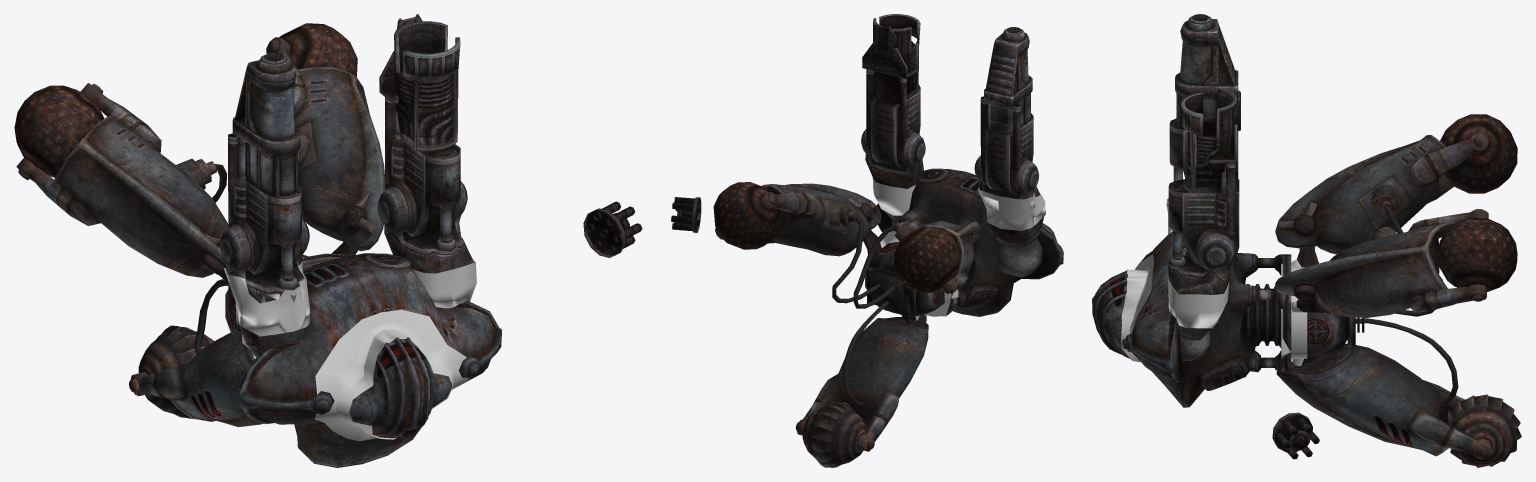
The model's file is asdfasdf.obj.
3 renders of one model, left to right at view 1: azimuth 30°, elevation 25°; view 2: azimuth 150°, elevation 25°; view 3: azimuth 270°, elevation 25°, orthographic. The views are drawn at different scales.
Parts seen in each view (by area): view 1: SBTorso, SBLeftFender, SBRightGatlingLaser, SBRightFender, SBLeftMissileLauncher, limbcaps01, bodycaps01, SBRearFender, SBLeftTire, SBRightUpperArm, SBLeftUpperArm, SBRightTire (+2 smaller); view 2: SBTorso, SBRearFender, SBRightGatlingLaser, SBLeftMissileLauncher, SBRightFender, SBLeftTire, SBRightTire, SBRearTire, limbcaps01, SBLeftUpperArm, SBRightUpperArm, SBLeftFender (+6 smaller); view 3: SBTorso, SBLeftFender, SBRearFender, SBRightFender, SBRightGatlingLaser, SBLeftMissileLauncher, SBRightTire, limbcaps01, SBLeftTire, SBRearTire, SBRightUpperArm, SBRightLaserTurret:0 (+2 smaller).
Part boxes in pixels (x1,y1,x2,y2): SBTorso: [202, 241, 501, 467]; SBLeftFender: [16, 83, 228, 277]; SBRightGatlingLaser: [379, 14, 460, 250]; SBRightFender: [266, 37, 385, 251]; SBLeftMissileLauncher: [228, 52, 301, 289]; limbcaps01: [224, 257, 476, 435]; bodycaps01: [229, 253, 469, 441]; SBRearFender: [129, 332, 263, 427]; SBLeftTire: [14, 85, 104, 177]; SBRightUpperArm: [377, 181, 474, 273]; SBLeftUpperArm: [219, 219, 309, 359]; SBRightTire: [279, 23, 357, 76]; SBTorso: [863, 168, 1063, 324]; SBRearFender: [795, 314, 928, 451]; SBRightGatlingLaser: [862, 14, 920, 167]; SBLeftMissileLauncher: [980, 27, 1033, 194]; SBRightFender: [715, 183, 881, 256]; SBLeftTire: [893, 226, 959, 292]; SBRightTire: [713, 182, 780, 249]; SBRearTire: [802, 402, 866, 467]; limbcaps01: [872, 170, 1045, 320]; SBLeftUpperArm: [974, 155, 1044, 247]; SBRightUpperArm: [861, 129, 925, 220]; SBLeftFender: [894, 220, 980, 294]; SBTorso: [1092, 231, 1355, 407]; SBLeftFender: [1275, 132, 1488, 254]; SBRearFender: [1276, 343, 1491, 459]; SBRightFender: [1275, 209, 1488, 317]; SBRightGatlingLaser: [1168, 88, 1240, 268]; SBLeftMissileLauncher: [1169, 14, 1238, 181]; SBRightTire: [1438, 218, 1517, 291]; limbcaps01: [1120, 198, 1307, 366]; SBLeftTire: [1440, 114, 1517, 193]; SBRearTire: [1447, 394, 1521, 467]; SBRightUpperArm: [1168, 233, 1235, 340]; SBRightLaserTurret:0: [1272, 412, 1319, 459].
Bounding box in the file's own units: 156 × 147 × 137.
